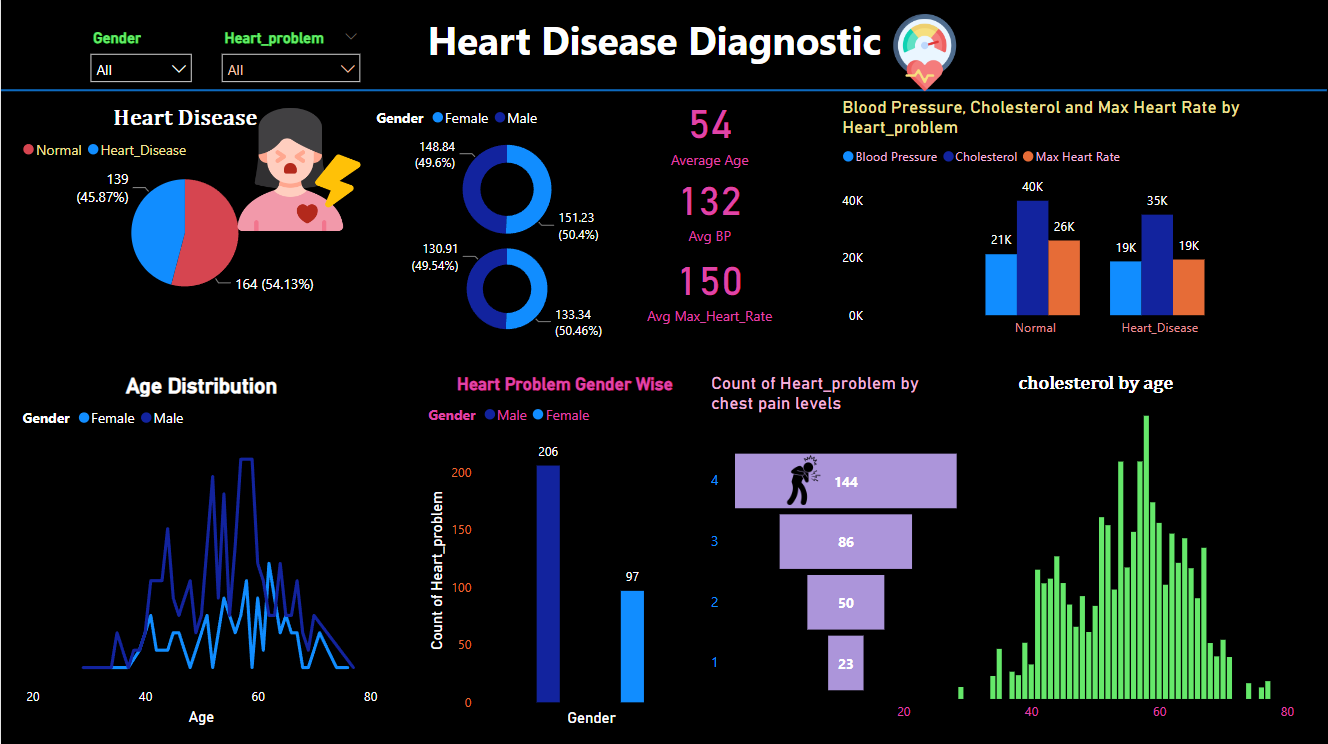

The page's visual inventory and layout, read from the dashboard file:
{"tool":"powerbi","page":{"name":"Page 1","canvas":[1280,720],"ordinal":0},"visuals":[{"type":"pieChart","title":"Heart Disease","fields":{"Category":["Heart_Disease.Heart_problem"],"Y":["CountNonNull(Heart_Disease.Heart_problem)"]},"box":[15.9,102.7,323.9,194.4],"z":0},{"type":"textbox","box":[406.4,9.6,467.9,61.5],"z":1000},{"type":"lineChart","title":"Age Distribution","fields":{"Category":["Heart_Disease.age"],"Y":["CountNonNull(Heart_Disease.age)"],"Series":["Heart_Disease.Gender"]},"box":[15.7,360.6,355.8,344.9],"z":2000},{"type":"clusteredColumnChart","title":"Heart Problem Gender Wise","fields":{"Series":["Heart_Disease.Gender"],"Y":["CountNonNull(Heart_Disease.Heart_problem)"],"Category":["Heart_Disease.Gender"]},"box":[406.4,360.6,273.8,344.9],"z":3000},{"type":"lineClusteredColumnComboChart","title":"cholesterol by age","fields":{"Category":["Heart_Disease.age"],"Y":["Sum(Heart_Disease.chol)"]},"box":[858.7,360.6,394.4,344.9],"z":4000},{"type":"donutChart","title":"Average of Resting Blood Pressure by Gender","fields":{"Category":["Heart_Disease.Gender"],"Y":["Avg(Heart_Disease.trestbps)"]},"box":[379.9,224.3,217.1,111],"z":5000},{"type":"funnel","title":"Count of Heart_problem by chest pain levels","fields":{"Category":["Heart_Disease.cp"],"Y":["CountNonNull(Heart_Disease.Heart_problem)"]},"box":[679.6,360.2,252,344.9],"z":6000},{"type":"shape","box":[0,73.6,1279.6,28.9],"z":7000},{"type":"donutChart","title":"Average of Resting Blood Pressure by Gender","fields":{"Category":["Heart_Disease.Gender"],"Y":["Avg(Heart_Disease.thalach)"]},"box":[357,94.1,262.9,149.5],"z":8000},{"type":"clusteredColumnChart","fields":{"Category":["Heart_Disease.Heart_problem"],"Y":["Sum(Heart_Disease.trestbps)","Sum(Heart_Disease.chol)","Sum(Heart_Disease.thalach)"]},"box":[806.8,94.1,472.8,241.2],"z":9000},{"type":"slicer","fields":{"Values":["Heart_Disease.Gender"]},"box":[76,24.1,118.2,63.9],"z":10000},{"type":"slicer","fields":{"Values":["Heart_Disease.Heart_problem"]},"box":[202.6,24.1,154.4,63.9],"z":11000},{"type":"image","box":[806.8,9.6,168.8,84.4],"z":12000},{"type":"image","box":[217.1,94.1,139.9,139.9],"z":13000},{"type":"image","box":[741.7,435.4,65.1,57.9],"z":14000},{"type":"card","fields":{"Values":["Avg(Heart_Disease.age)"]},"box":[640.4,83.2,86.8,85.6],"z":15000},{"type":"card","fields":{"Values":["Avg(Heart_Disease.trestbps)"]},"box":[640.4,156.8,86.8,85.6],"z":16000},{"type":"card","fields":{"Values":["Avg(Heart_Disease.thalach)"]},"box":[611.5,234,144.7,85.6],"z":17000}]}

Visuals, with their boxes in screenshot pixels (x1, y1, x2, y2), scaled from the page's 1280x720 canvas onto the 1328x744 screenshot:
"Heart Disease" pieChart: <box>16,106,353,307</box>
textbox: <box>422,10,907,73</box>
"Age Distribution" lineChart: <box>16,373,385,729</box>
"Heart Problem Gender Wise" clusteredColumnChart: <box>422,373,706,729</box>
"cholesterol by age" lineClusteredColumnComboChart: <box>891,373,1300,729</box>
"Average of Resting Blood Pressure by Gender" donutChart: <box>394,232,619,346</box>
"Count of Heart_problem by chest pain levels" funnel: <box>705,372,967,729</box>
shape: <box>0,76,1327,106</box>
"Average of Resting Blood Pressure by Gender" donutChart: <box>370,97,643,252</box>
clusteredColumnChart - Heart_Disease.Heart_problem x Sum(Heart_Disease.trestbps): <box>837,97,1327,346</box>
slicer - Heart_Disease.Gender: <box>79,25,201,91</box>
slicer - Heart_Disease.Heart_problem: <box>210,25,370,91</box>
image: <box>837,10,1012,97</box>
image: <box>225,97,370,242</box>
image: <box>770,450,837,510</box>
card - Avg(Heart_Disease.age): <box>664,86,754,174</box>
card - Avg(Heart_Disease.trestbps): <box>664,162,754,250</box>
card - Avg(Heart_Disease.thalach): <box>634,242,785,330</box>
